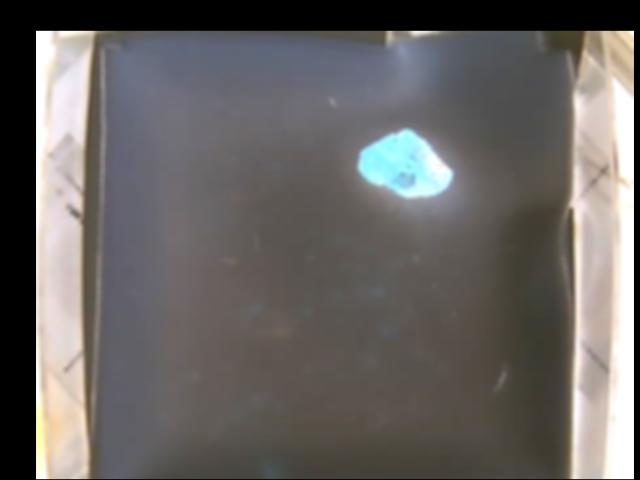Brisk: (354, 125, 452, 195)
